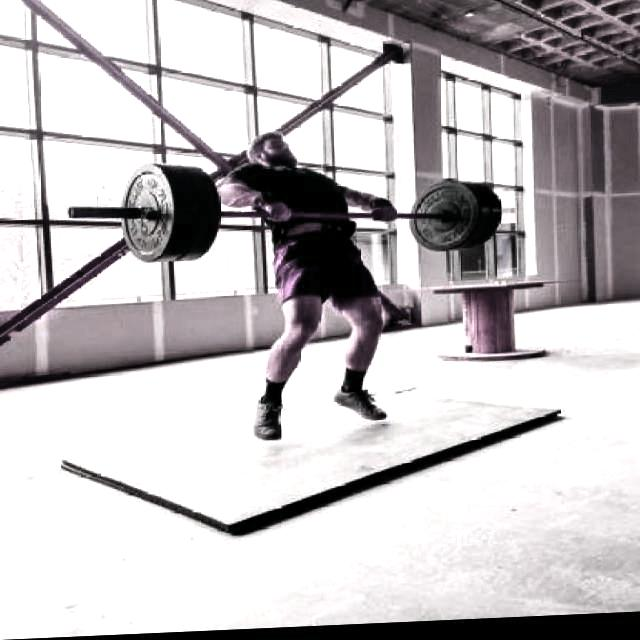barbell: (64, 155, 182, 272)
